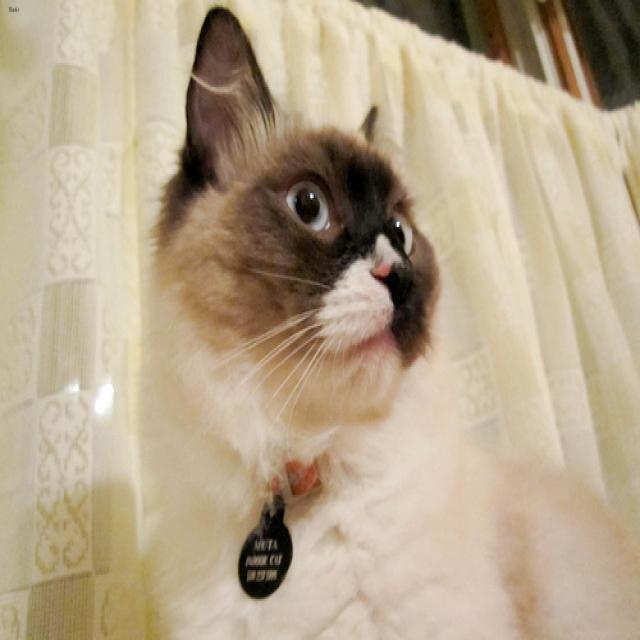Ragdoll: (184, 3, 438, 396)
